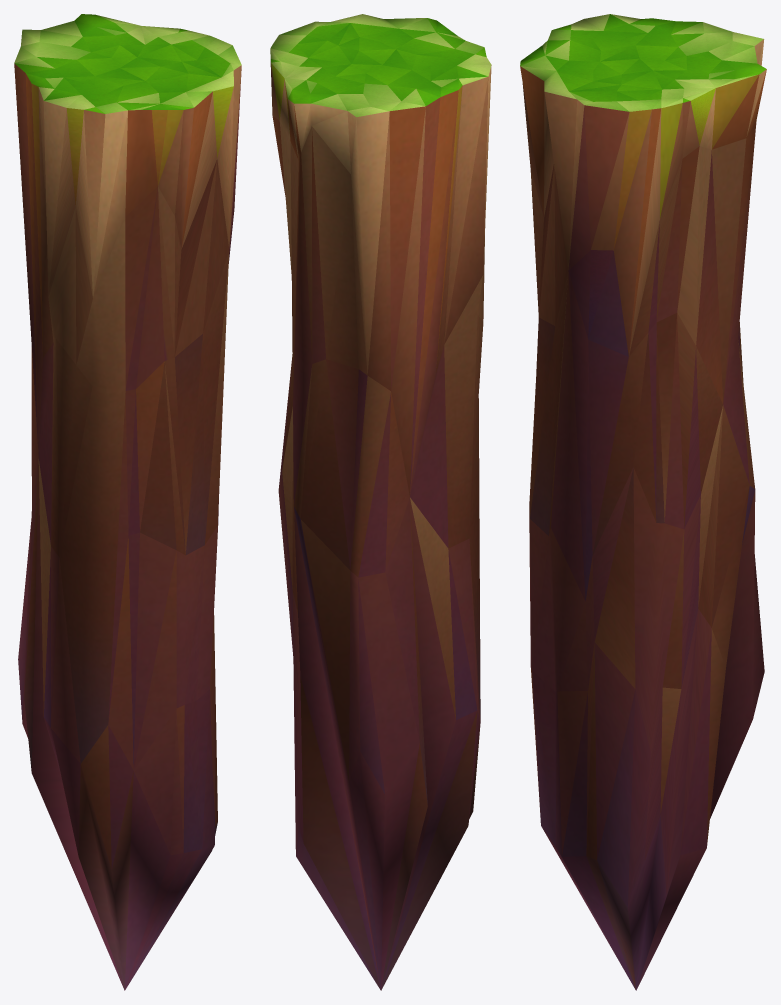
File: Terrain-part-18.fbx
3 renders of one model, left to right at view 1: azimuth 30°, elevation 25°; view 2: azimuth 150°, elevation 25°; view 3: azimuth 270°, elevation 25°, orthographic.
Visible parts, largest first — view 1: Terrain-part-18; view 2: Terrain-part-18; view 3: Terrain-part-18.
Boxes of the visible parts, <box> form: Terrain-part-18: <box>14,14,241,990</box>; Terrain-part-18: <box>270,14,491,990</box>; Terrain-part-18: <box>520,14,766,990</box>.
Size of the model in its own units: 3.07 by 13.64 by 3.27.
